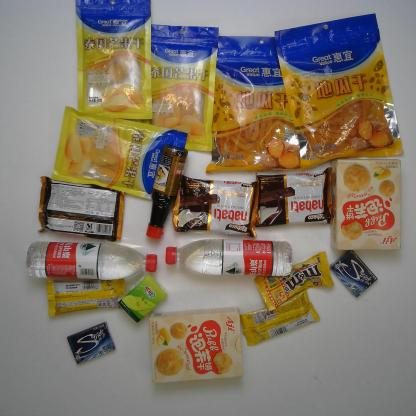Chocolate: (253, 250, 336, 312), (238, 289, 322, 346), (46, 276, 127, 318)
Dessert: (147, 305, 245, 384), (332, 158, 402, 254), (173, 171, 260, 239), (37, 175, 125, 242), (253, 166, 337, 228)
Dried Fruit: (274, 11, 405, 171), (204, 34, 302, 175), (51, 105, 188, 203), (140, 23, 220, 154), (74, 0, 154, 121)
Drink: (25, 239, 159, 283), (164, 238, 294, 278)
Gum: (329, 250, 379, 298), (66, 320, 117, 366)
Seasoner: (143, 145, 186, 239)
Tissue: (117, 270, 170, 324)
